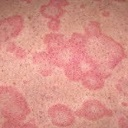Hives: (45, 26, 119, 86), (50, 99, 111, 128), (1, 86, 33, 127)
